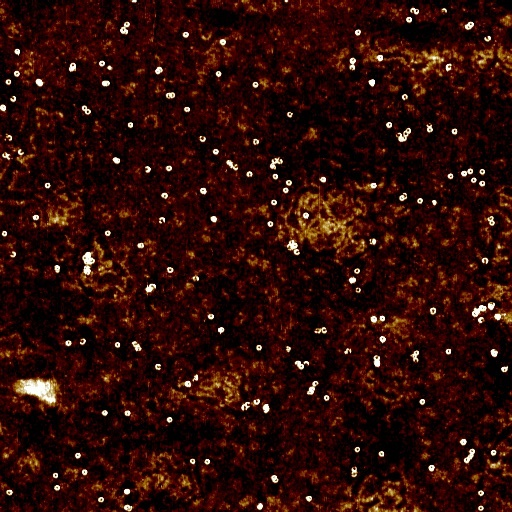-1: (18, 374, 57, 408), (225, 157, 241, 173), (80, 250, 96, 265), (395, 128, 411, 143), (265, 156, 282, 170), (472, 301, 487, 316), (208, 213, 220, 226), (112, 155, 125, 167), (286, 238, 298, 250), (463, 19, 474, 32), (145, 283, 159, 293), (486, 299, 498, 310), (261, 403, 271, 416), (366, 78, 377, 89), (489, 345, 500, 356), (367, 236, 378, 247), (269, 473, 279, 485), (493, 311, 503, 322), (154, 64, 163, 76), (347, 275, 358, 283), (123, 487, 134, 495), (255, 502, 266, 510), (136, 242, 145, 251), (430, 198, 440, 206), (284, 344, 292, 354), (83, 267, 93, 275), (372, 360, 383, 367), (306, 387, 315, 395), (194, 373, 201, 382), (218, 327, 226, 334), (54, 265, 62, 272), (106, 65, 113, 73), (466, 454, 475, 460), (129, 1, 139, 4)
1/4: (303, 359, 312, 368), (403, 191, 410, 202), (192, 275, 199, 284), (349, 473, 359, 479), (125, 29, 130, 38), (7, 155, 11, 163)
2/4: (238, 400, 248, 415), (142, 163, 153, 176), (197, 133, 208, 146), (439, 5, 449, 16), (4, 134, 14, 144), (9, 95, 18, 105), (343, 347, 354, 355), (477, 315, 487, 323), (16, 149, 26, 157), (157, 218, 167, 226), (247, 398, 254, 409), (9, 251, 17, 259), (425, 121, 435, 127), (412, 356, 421, 362), (2, 152, 7, 160)
3/4: (159, 189, 171, 204), (478, 255, 490, 265), (244, 170, 255, 180), (483, 33, 493, 43), (444, 63, 454, 73), (400, 91, 410, 101), (284, 109, 294, 119), (425, 126, 436, 135), (251, 137, 260, 148), (370, 352, 382, 360), (123, 504, 135, 512), (293, 249, 302, 258), (321, 326, 329, 336), (79, 336, 87, 346), (254, 397, 262, 406), (154, 363, 163, 371), (487, 212, 495, 220), (134, 347, 144, 353), (348, 65, 356, 72), (311, 381, 321, 386), (413, 8, 420, 15), (408, 6, 415, 13), (351, 465, 358, 472)
4/4: (65, 60, 79, 74), (126, 118, 135, 133), (218, 36, 229, 48), (429, 303, 439, 316), (250, 79, 260, 91), (378, 333, 388, 344), (353, 284, 364, 294), (12, 48, 22, 59), (445, 344, 454, 356), (375, 53, 385, 63), (352, 27, 362, 37), (322, 393, 332, 403), (377, 449, 387, 459), (211, 147, 221, 157), (499, 364, 510, 373), (182, 104, 193, 113), (162, 165, 174, 173), (316, 176, 328, 184), (478, 179, 488, 188), (488, 219, 497, 229), (369, 314, 378, 324), (123, 409, 133, 418), (184, 380, 194, 389), (198, 187, 208, 196), (268, 198, 278, 207), (346, 56, 357, 64), (212, 70, 224, 77), (459, 438, 468, 447), (204, 458, 213, 467), (103, 230, 112, 239), (31, 214, 40, 223), (4, 79, 13, 88), (301, 212, 310, 221), (270, 172, 279, 181), (405, 15, 413, 25), (447, 171, 455, 181), (304, 495, 314, 503), (74, 450, 82, 460), (12, 70, 22, 78), (96, 60, 106, 68), (385, 121, 394, 129), (479, 167, 487, 176), (370, 181, 379, 189), (419, 397, 427, 406), (378, 313, 387, 321), (428, 464, 436, 473), (100, 409, 109, 417), (81, 468, 89, 477), (54, 484, 62, 493), (0, 230, 8, 239), (80, 103, 88, 112), (170, 91, 178, 100), (284, 178, 293, 186), (396, 194, 404, 203), (477, 504, 486, 512), (352, 446, 362, 453), (180, 31, 190, 38), (164, 91, 170, 102), (467, 167, 475, 175), (166, 266, 174, 274), (280, 187, 288, 195), (353, 266, 362, 273), (490, 448, 497, 457), (98, 496, 107, 503), (118, 26, 125, 35), (417, 196, 424, 204), (477, 490, 485, 497), (256, 344, 263, 352), (189, 458, 197, 465), (64, 340, 72, 347), (51, 472, 59, 479), (0, 104, 7, 112), (123, 20, 131, 27), (266, 220, 273, 228), (452, 127, 458, 136), (6, 490, 15, 496), (471, 175, 478, 182), (463, 458, 470, 465), (44, 183, 51, 190), (167, 417, 175, 423), (85, 110, 93, 116), (461, 170, 468, 176), (415, 347, 421, 354), (469, 448, 476, 454), (208, 314, 215, 320), (114, 342, 121, 348)
